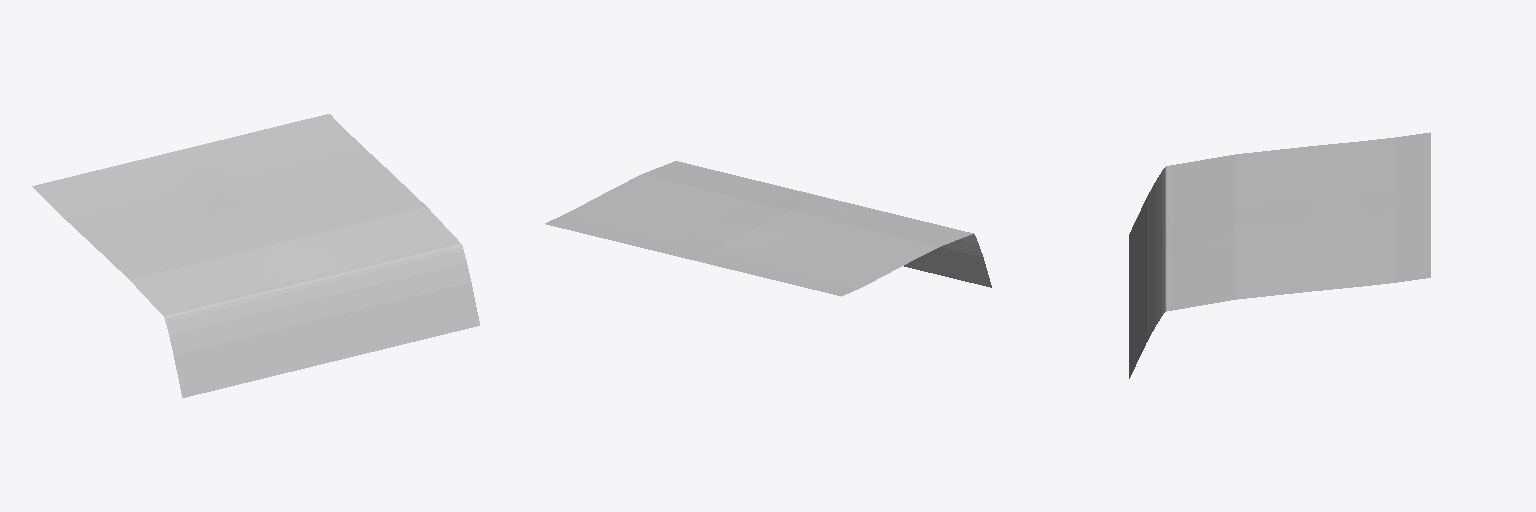
The model's file is trunk.obj.
The picture shows the model from 3 angles: view 1: azimuth 30°, elevation 25°; view 2: azimuth 150°, elevation 25°; view 3: azimuth 270°, elevation 25°; orthographic projection.
Parts seen in each view (by area): view 1: TrunkLid_Plane.002; view 2: TrunkLid_Plane.002; view 3: TrunkLid_Plane.002.
Boxes of the visible parts, x1,y1,x2,y2 form: TrunkLid_Plane.002: [32, 114, 479, 397]; TrunkLid_Plane.002: [545, 161, 991, 296]; TrunkLid_Plane.002: [1129, 132, 1430, 378].
Size of the model in its own units: 1.19 by 0.3872 by 1.04.